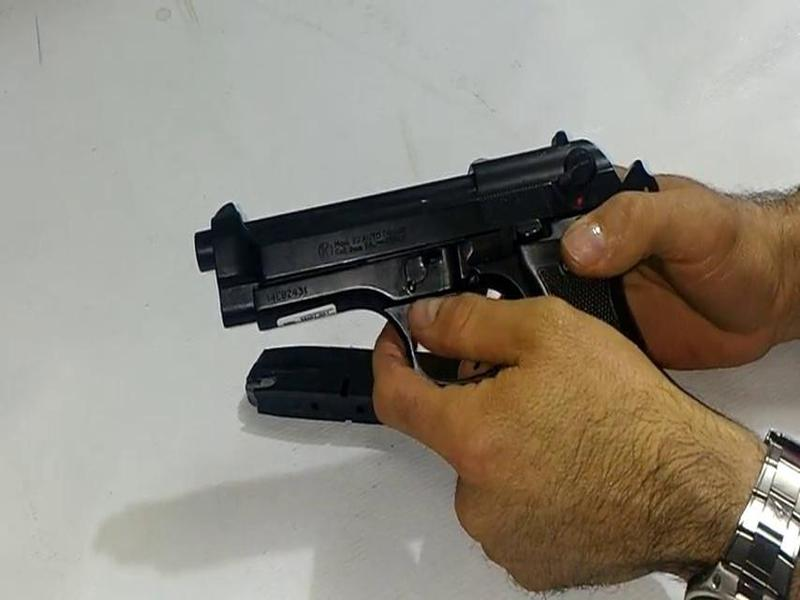Pistola: (182, 118, 699, 471)
